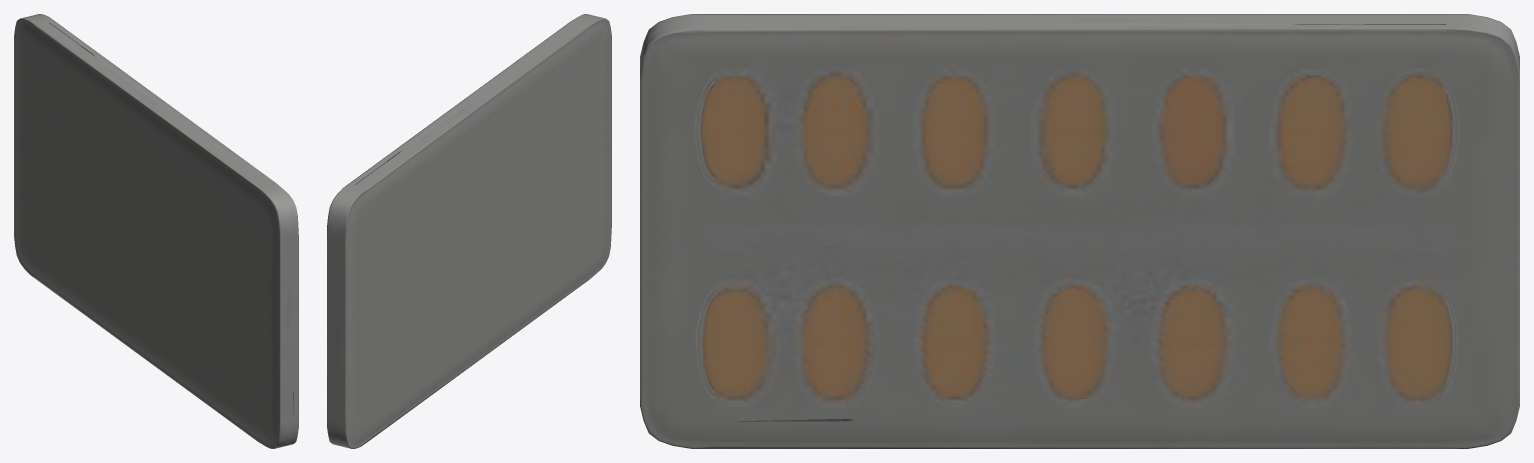
The model's file is Tablets.fbx.
3 renders of one model, left to right at view 1: azimuth 30°, elevation 25°; view 2: azimuth 150°, elevation 25°; view 3: azimuth 270°, elevation 25°, orthographic. The views are drawn at different scales.
Visible parts, largest first — view 1: tripo_node_7035333b-68ee-4fae-af65-ce188182f3a3; view 2: tripo_node_7035333b-68ee-4fae-af65-ce188182f3a3; view 3: tripo_node_7035333b-68ee-4fae-af65-ce188182f3a3.
Part boxes in pixels (x1,y1,x2,y2): tripo_node_7035333b-68ee-4fae-af65-ce188182f3a3: [14, 14, 298, 448]; tripo_node_7035333b-68ee-4fae-af65-ce188182f3a3: [327, 14, 611, 448]; tripo_node_7035333b-68ee-4fae-af65-ce188182f3a3: [640, 14, 1519, 448].
Bounding box in the file's own units: 4.49 × 52.54 × 99.8.
Materials: 1 (1 with a texture image).
